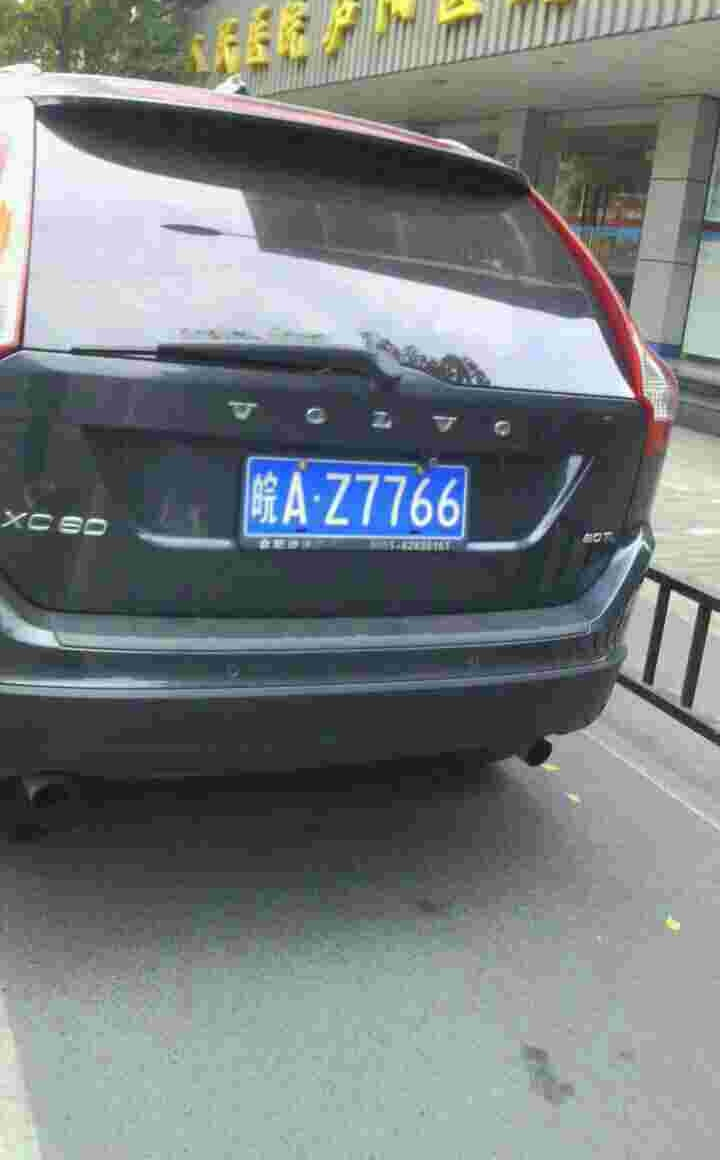license_plate: (251, 453, 473, 533)
